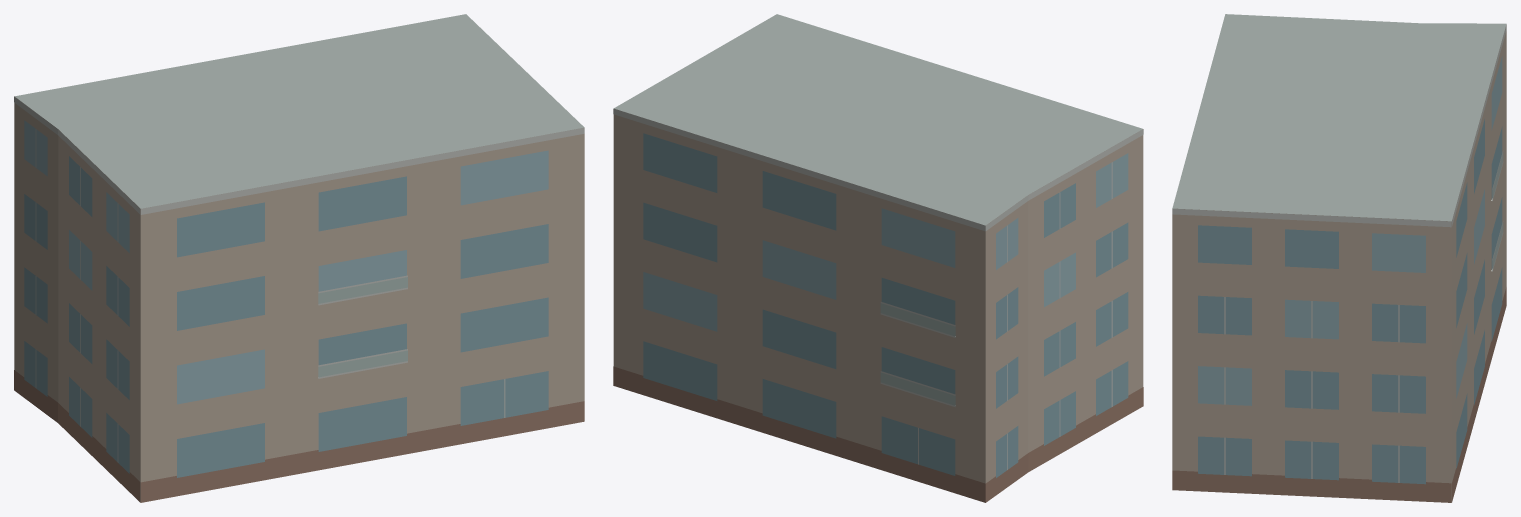
The model's file is survey-upis-32921949.glb.
The picture shows the model from 3 angles, left to right: view 1: azimuth 30°, elevation 25°; view 2: azimuth 150°, elevation 25°; view 3: azimuth 270°, elevation 25°; orthographic projection. The views are drawn at different scales.
Parts seen in each view (by area): view 1: survey-upis-32921949.tmp; view 2: survey-upis-32921949.tmp; view 3: survey-upis-32921949.tmp.
Boxes of the visible parts, left/top/right/bottom form: survey-upis-32921949.tmp: left=14, top=14, right=584, bottom=502; survey-upis-32921949.tmp: left=613, top=14, right=1143, bottom=502; survey-upis-32921949.tmp: left=1172, top=14, right=1506, bottom=502.
Size of the model in its own units: 18.33 by 11.6 by 12.49.
